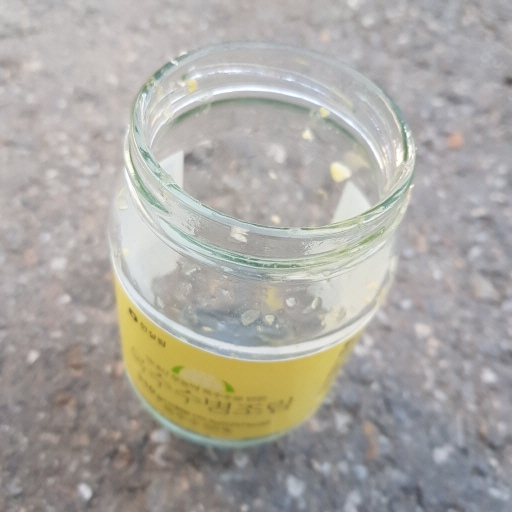Glass_5: (103, 38, 414, 455)
